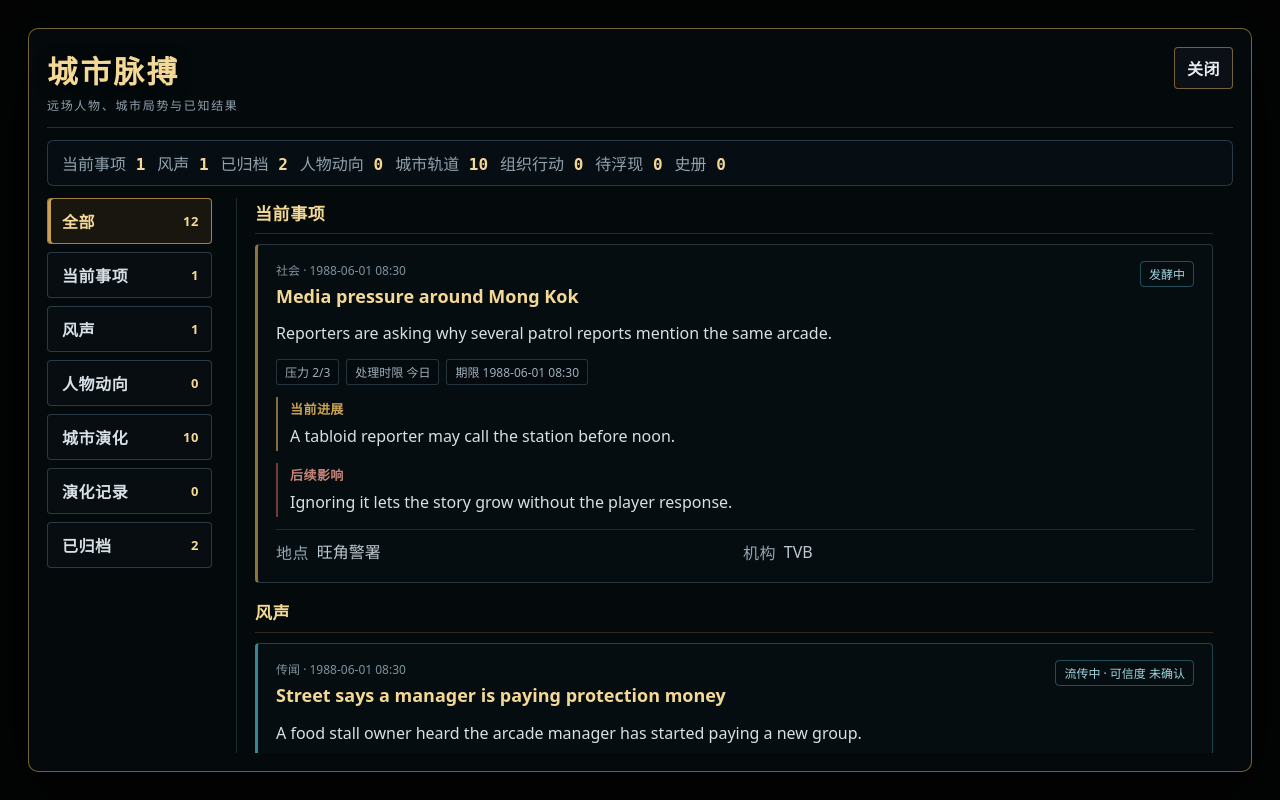
Test: DynamicMattersPanelModal › filters between current matters and signals
Click the button "风声 1" at (130, 329), box 47,306 -> 212,352
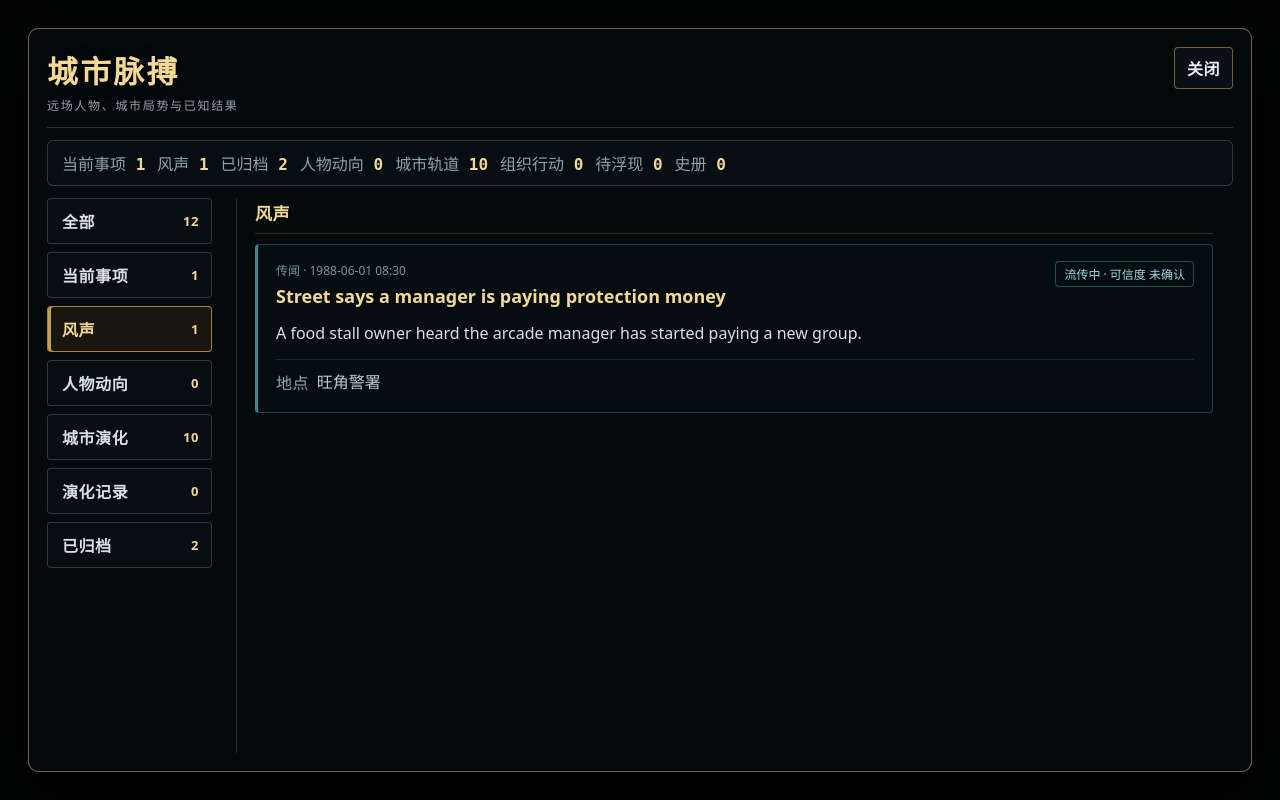
Expected: the dialog shows "Street says a manager is paying protection money", 276,284 -> 726,308
Now the dialog no longer shows "Media pressure around Mong Kok"
